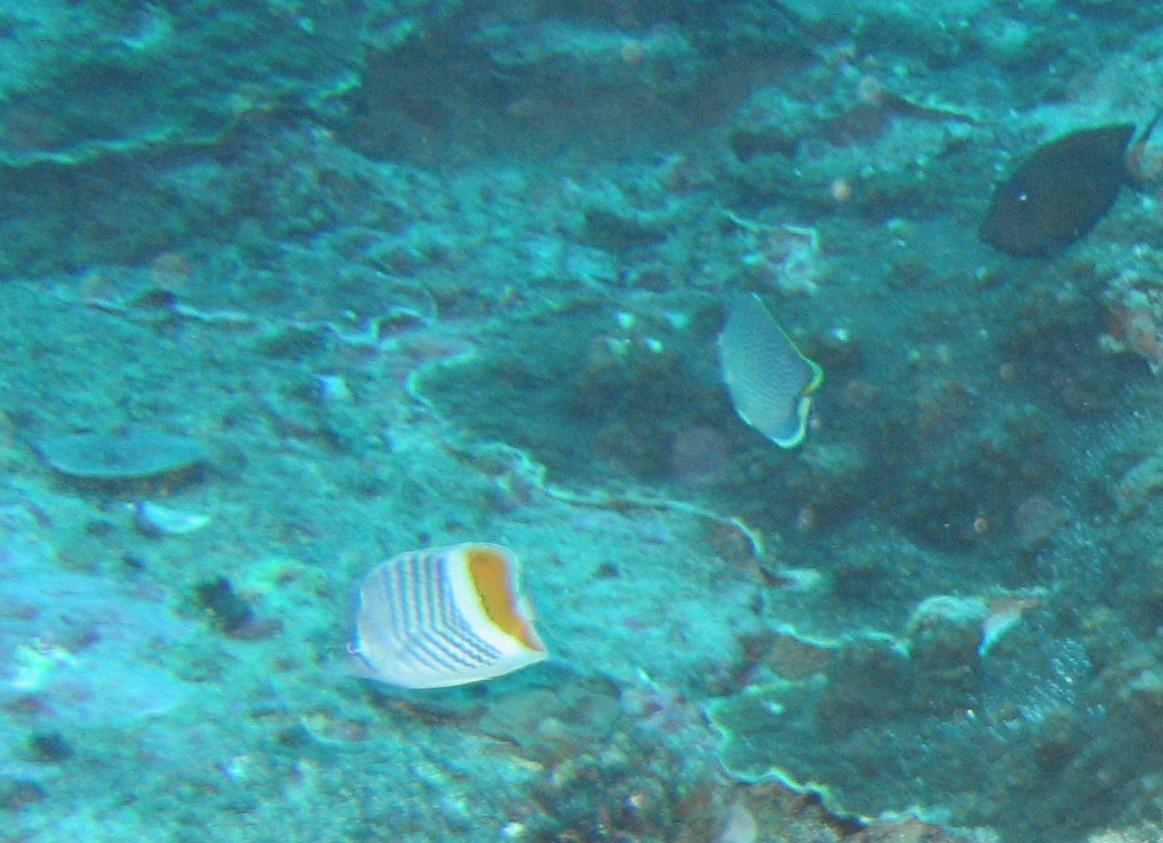Fish: (298, 516, 598, 726)
